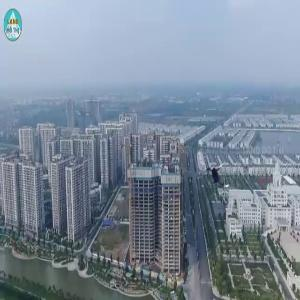drone: (200, 158, 236, 194)
